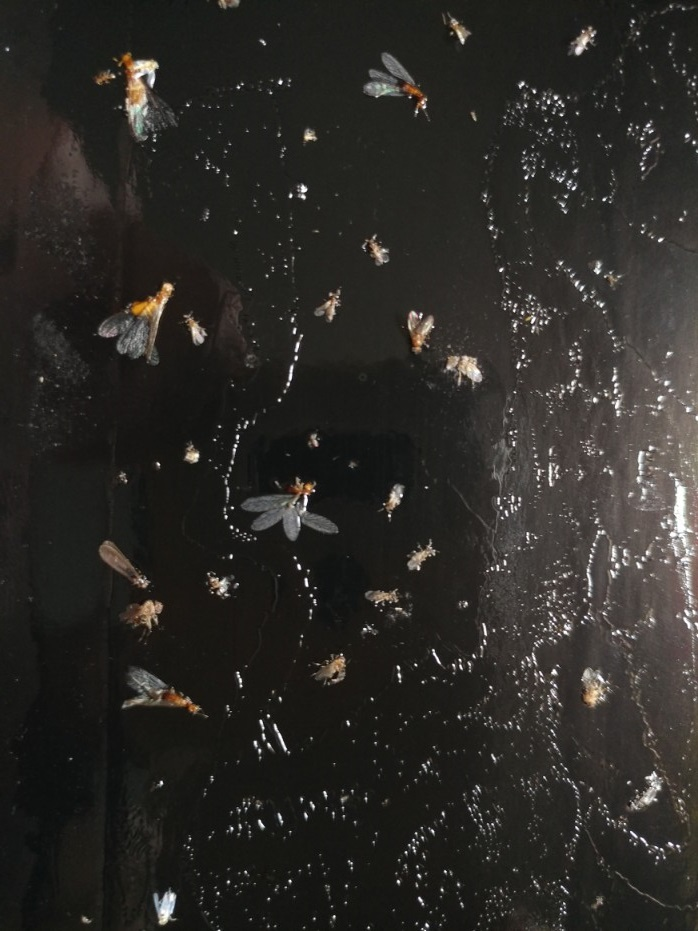flying termite: (97, 276, 180, 373), (124, 664, 212, 737)
